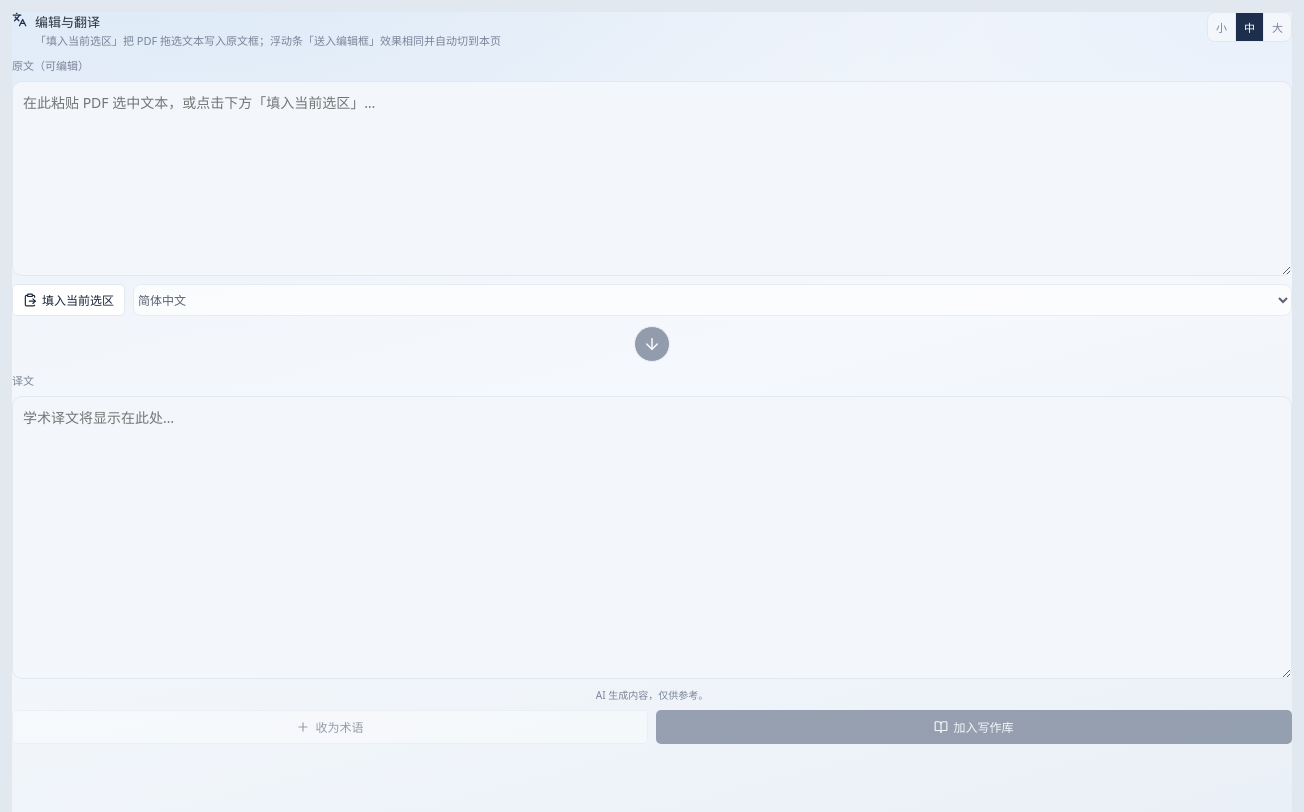
study clip saving › shows a vocabulary save error
In the text box labelled "原文（可编辑）": [652, 179] box [12,81,1292,276], type "attention mechanism"
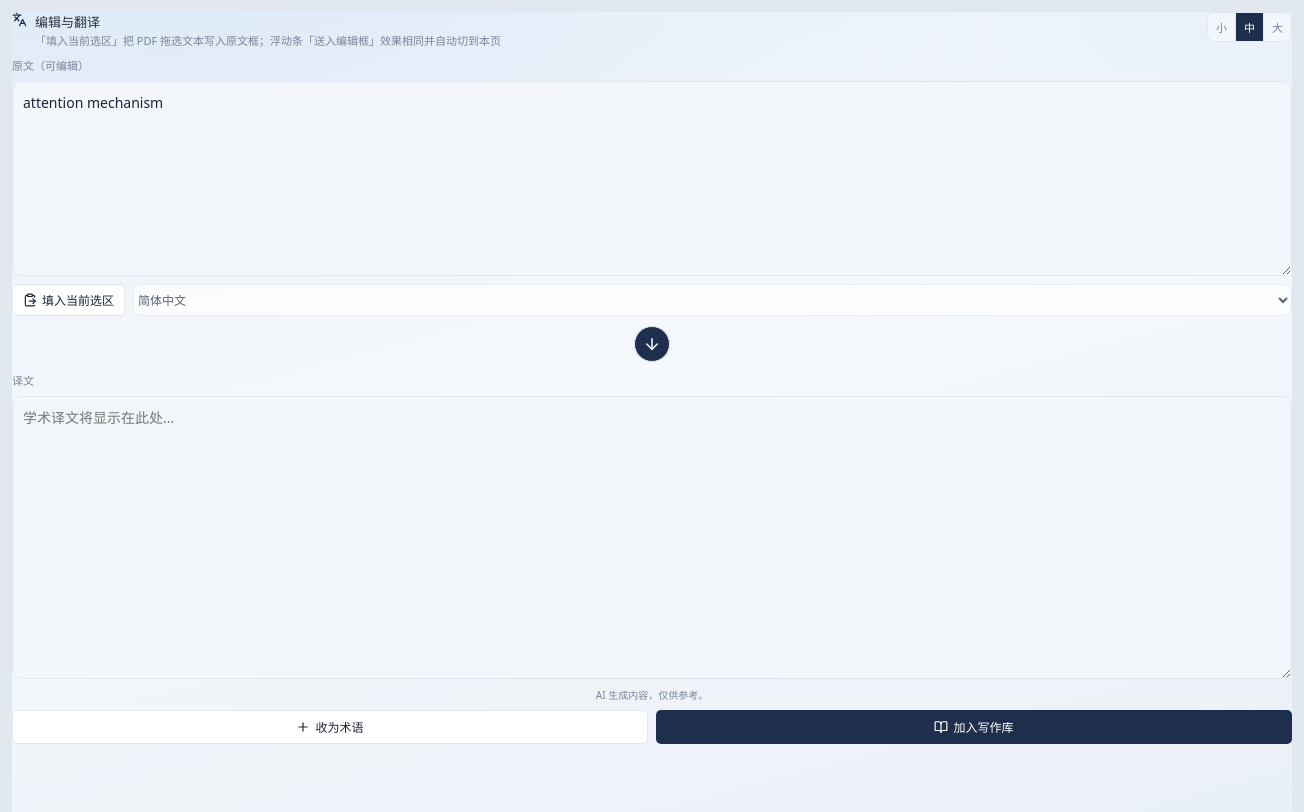
Click the button "收为术语": [330, 727] box [12,710,648,744]
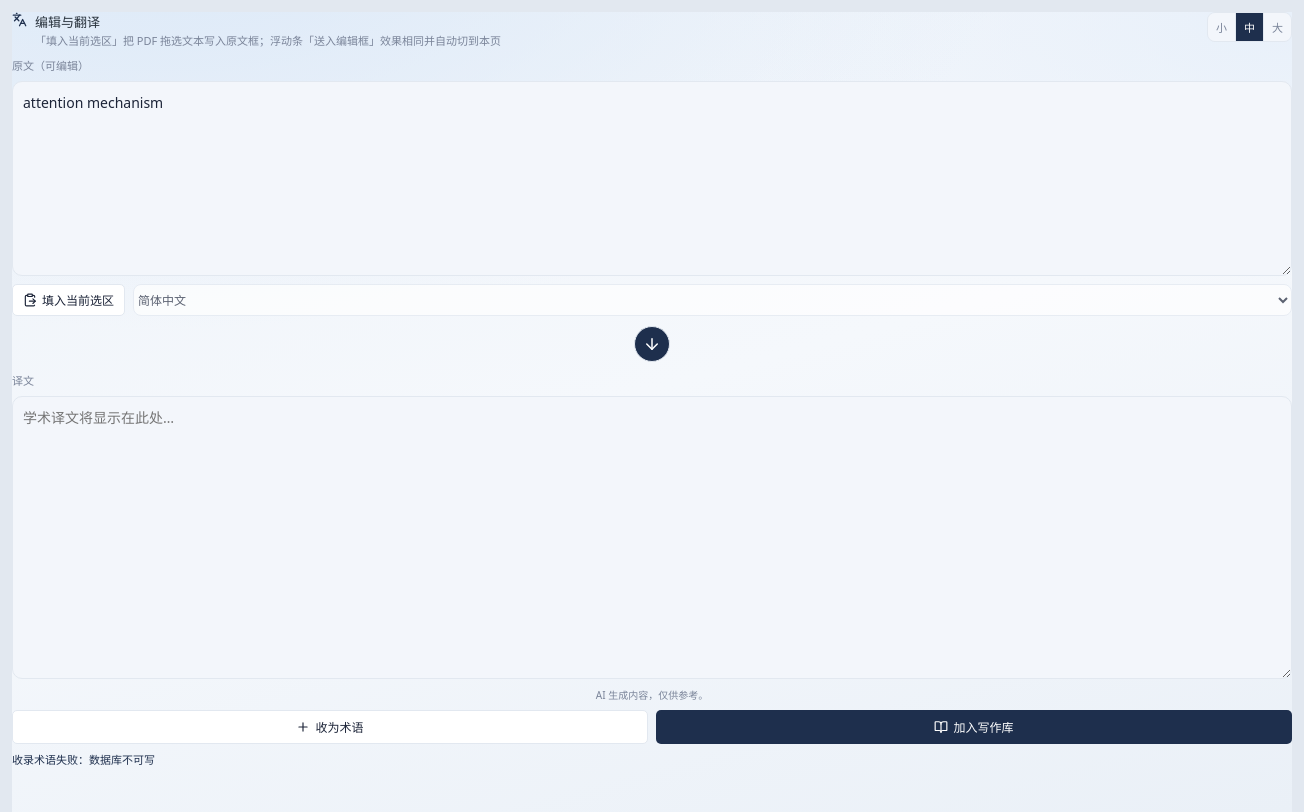
Now the text "收录术语失败：数据库不可写" is shown, box [12,752,155,767]
